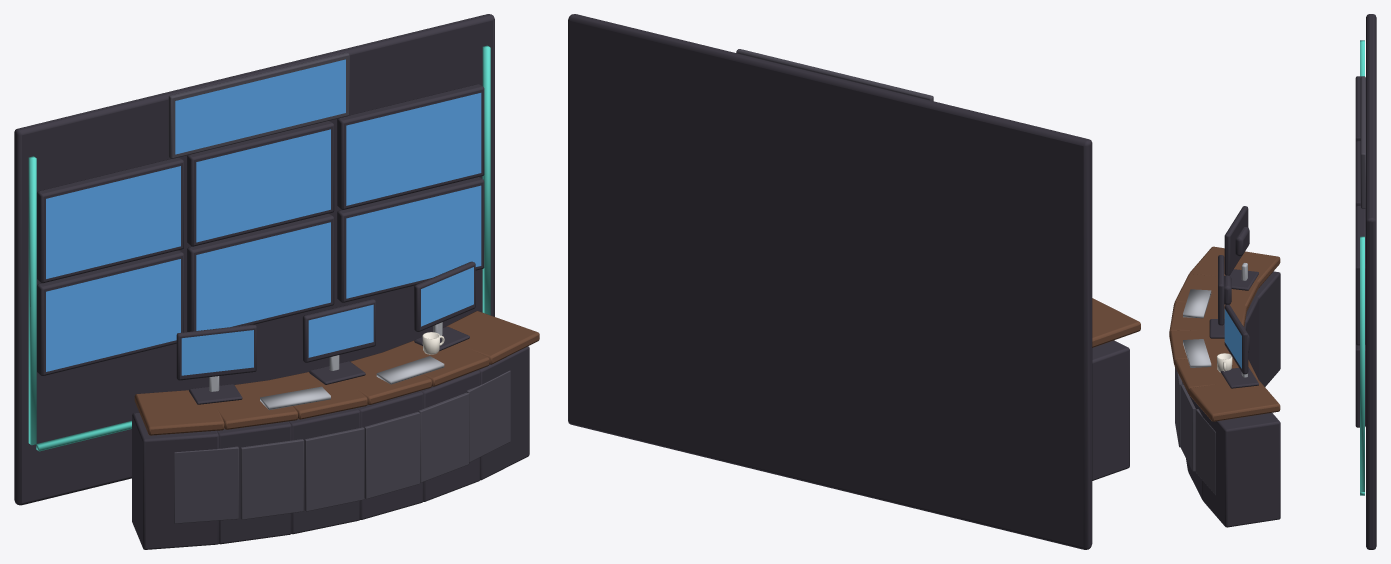
The model's file is noc_l2.glb.
3 views of the same model, side by side, from view 1: azimuth 30°, elevation 25°; view 2: azimuth 150°, elevation 25°; view 3: azimuth 270°, elevation 25° (orthographic). The views are drawn at different scales.
Parts seen in each view (by area): view 1: noc_l2, noc_wall2_screen, noc_wall1_screen, noc_wall0_screen, noc_wall3_screen, noc_wall4_screen, noc_wall5_screen, noc_sign_screen, noc_desk0_screen, noc_desk1_screen, noc_desk2_screen; view 2: noc_l2; view 3: noc_l2, noc_desk2_screen.
Part boxes in pixels (box(x1,y1,x2,y2)): noc_l2: box(14, 14, 539, 549); noc_wall2_screen: box(346, 93, 481, 205); noc_wall1_screen: box(196, 129, 330, 242); noc_wall0_screen: box(46, 166, 180, 278); noc_wall3_screen: box(46, 259, 180, 371); noc_wall4_screen: box(196, 222, 330, 330); noc_wall5_screen: box(346, 185, 481, 298); noc_sign_screen: box(175, 59, 345, 154); noc_desk0_screen: box(181, 330, 253, 375); noc_desk1_screen: box(308, 304, 373, 357); noc_desk2_screen: box(421, 267, 473, 326); noc_l2: box(568, 14, 1140, 549); noc_l2: box(1169, 14, 1376, 549); noc_desk2_screen: box(1224, 309, 1241, 368).
Size of the model in its own units: 2.8 by 2.1 by 1.19.
